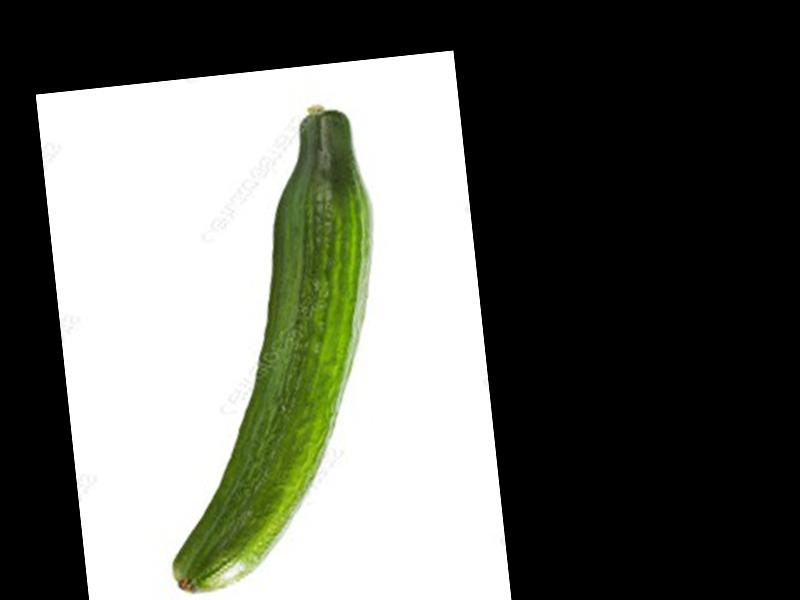Cucumber: (124, 99, 409, 595)
